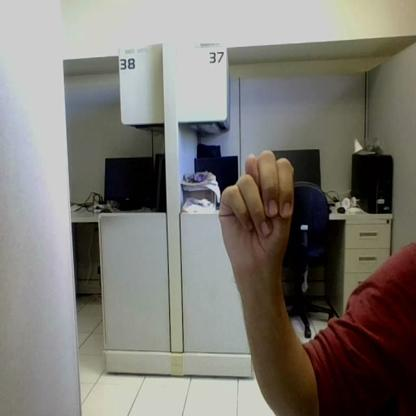N: (219, 151, 294, 260)
